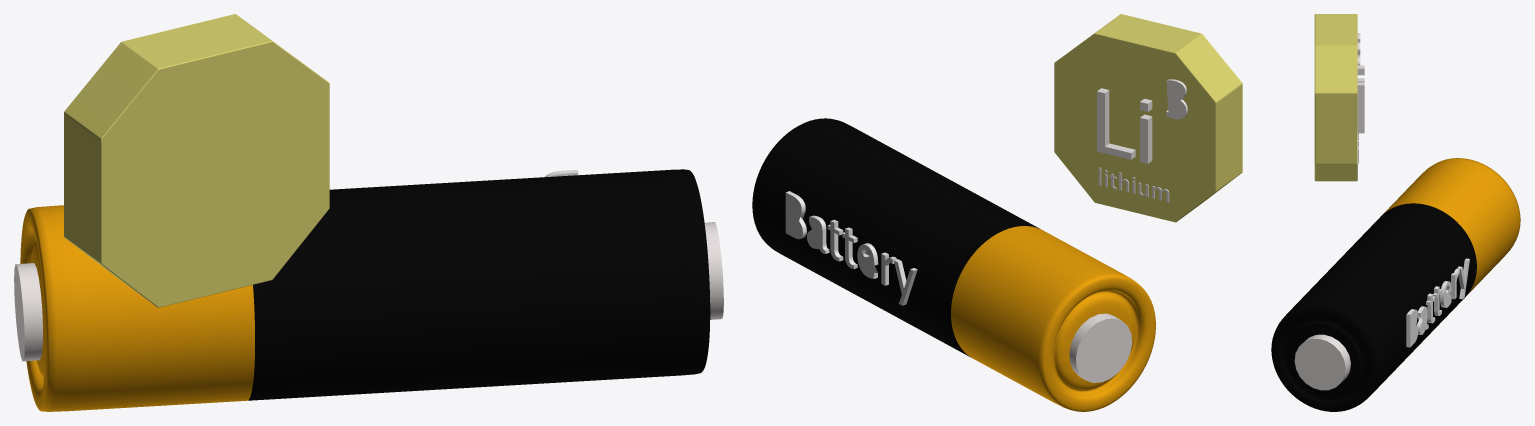
Rendered from Lithium Object.fbx.
3 views of the same model, side by side, from view 1: azimuth 30°, elevation 25°; view 2: azimuth 150°, elevation 25°; view 3: azimuth 270°, elevation 25° (orthographic). The views are drawn at different scales.
Parts seen in each view (by area): view 1: typeMesh5, pCube1; view 2: typeMesh5, pCube1, typeMesh1, typeMesh2, typeMesh3; view 3: typeMesh5, pCube1, typeMesh1.
Part boxes in pixels (x1,y1,x2,y2): typeMesh5: (14,169,723,411); pCube1: (64,14,329,307); typeMesh5: (752,118,1155,411); pCube1: (1054,14,1242,222); typeMesh1: (1097,88,1152,163); typeMesh2: (1166,79,1187,119); typeMesh3: (1098,167,1169,202); typeMesh5: (1271,158,1520,411); pCube1: (1314,14,1357,181); typeMesh1: (1357,65,1364,133).
Bounding box in the file's own units: 2.79 × 1.82 × 1.66.
